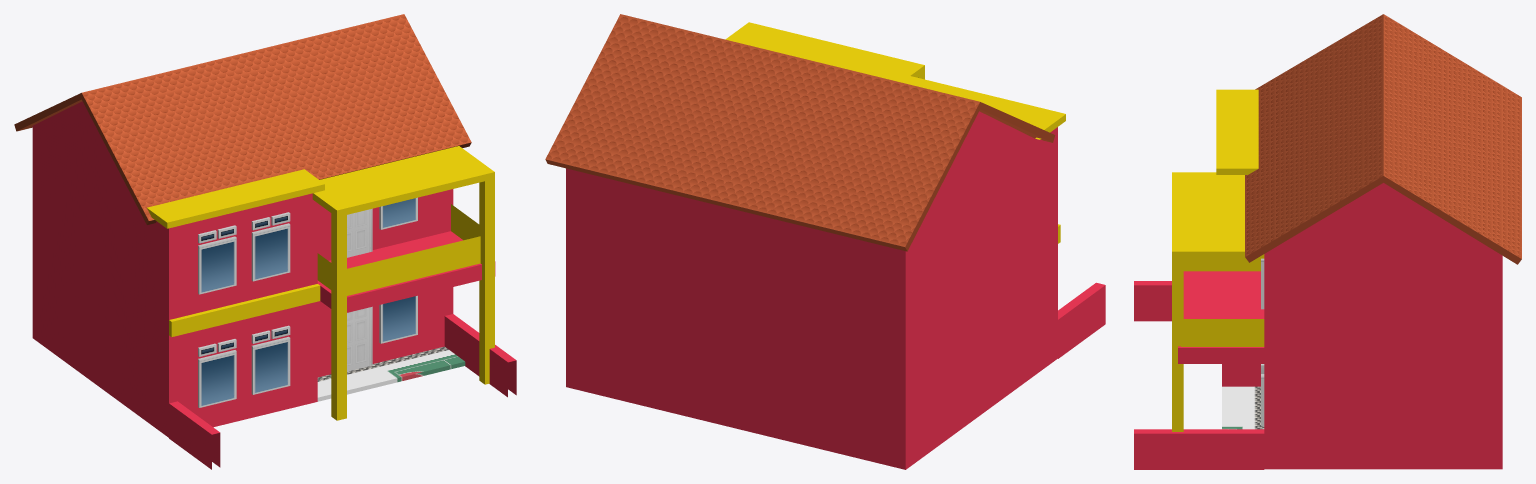
File: TetanggaBesar4.fbx
3 views of the same model, side by side, from view 1: azimuth 30°, elevation 25°; view 2: azimuth 150°, elevation 25°; view 3: azimuth 270°, elevation 25° (orthographic). The views are drawn at different scales.
Parts seen in each view (by area): view 1: Body1NPCT4_LOD0, Body2NPCT4_LOD0; view 2: Body1NPCT4_LOD0, Body2NPCT4_LOD0; view 3: Body1NPCT4_LOD0, Body2NPCT4_LOD0.
Boxes of the visible parts, x1=… form: Body1NPCT4_LOD0: x1=14, y1=14, x2=516, y2=469; Body2NPCT4_LOD0: x1=147, y1=146, x2=494, y2=420; Body1NPCT4_LOD0: x1=545, y1=14, x2=1105, y2=469; Body2NPCT4_LOD0: x1=725, y1=22, x2=1065, y2=243; Body1NPCT4_LOD0: x1=1134, y1=14, x2=1521, y2=469; Body2NPCT4_LOD0: x1=1172, y1=89, x2=1264, y2=431.
Size of what is drawn, in the model's own units: 1170 by 1006 by 1185.
